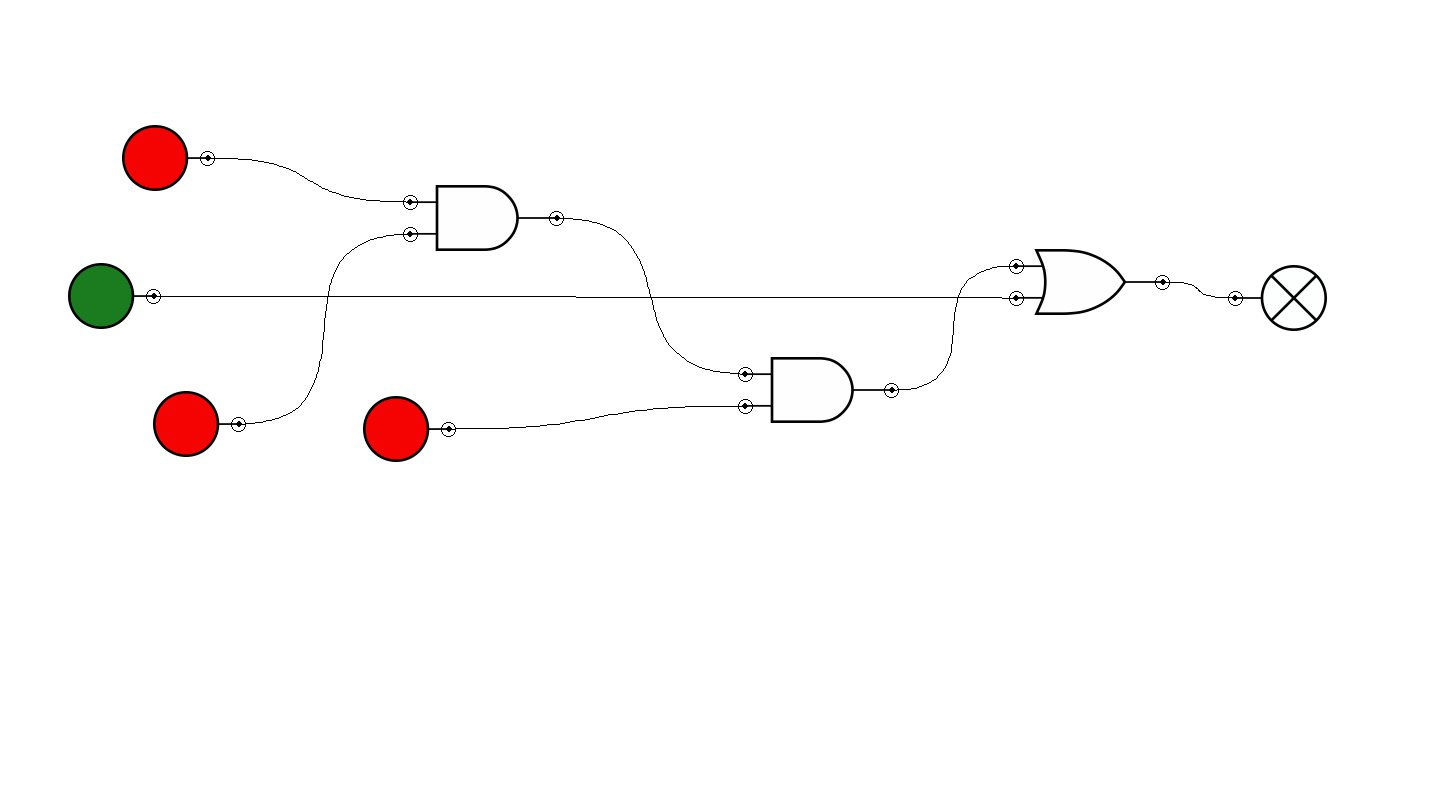and: (738, 357, 899, 423), (403, 185, 564, 251)
bulb: (1228, 265, 1327, 331)
or: (1009, 249, 1170, 315)
switch_False: (363, 396, 456, 462), (122, 125, 215, 191), (153, 391, 246, 457)
switch_True: (68, 263, 161, 329)
